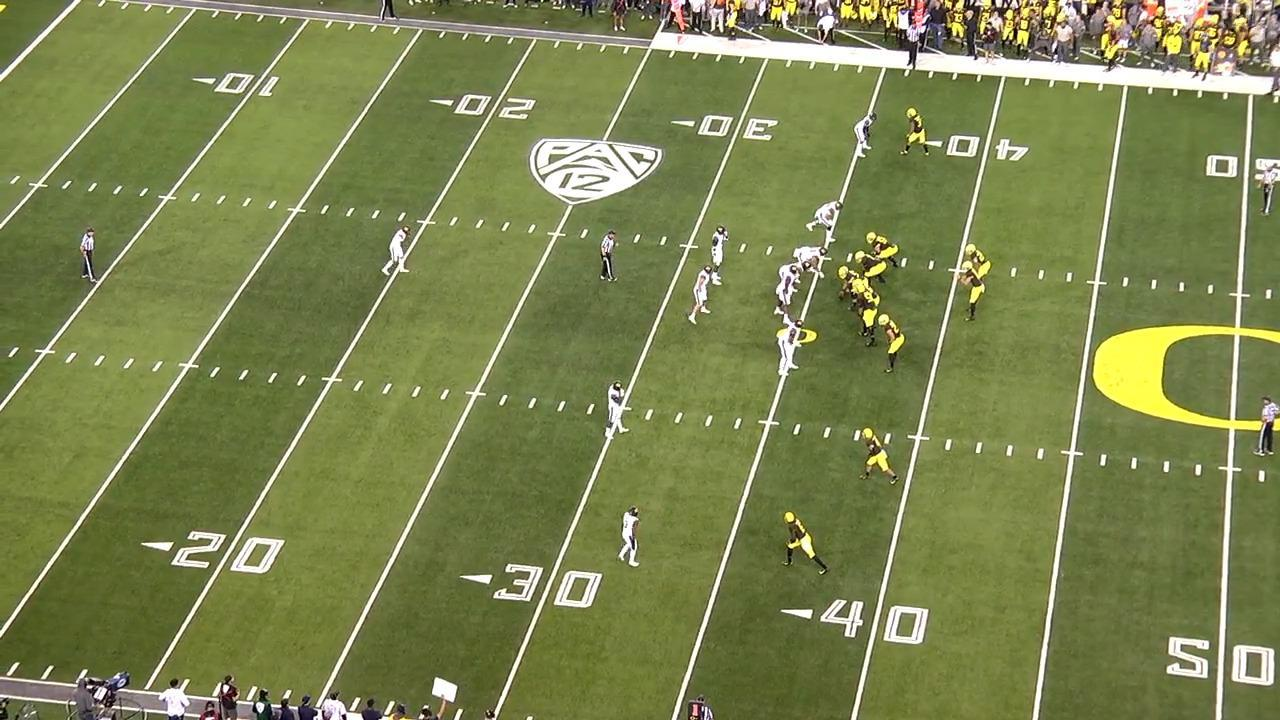defense: (687, 264, 721, 329), (804, 196, 847, 245), (376, 224, 411, 281), (617, 504, 646, 571), (604, 379, 634, 439), (775, 320, 805, 376), (772, 265, 800, 325), (708, 222, 732, 284), (849, 111, 877, 162), (793, 245, 828, 279), (777, 261, 811, 280)
oline: (863, 229, 904, 275), (837, 266, 876, 307), (849, 251, 887, 293), (856, 283, 878, 347), (851, 278, 881, 305)
qb: (953, 261, 987, 323)
ref: (1256, 395, 1280, 459), (1256, 157, 1280, 217), (78, 226, 100, 287), (904, 17, 927, 73), (595, 229, 617, 287), (1266, 43, 1280, 101), (373, 0, 399, 25)
skill: (777, 509, 830, 580), (860, 425, 903, 487), (877, 311, 906, 373), (902, 107, 933, 161), (967, 242, 991, 282)
